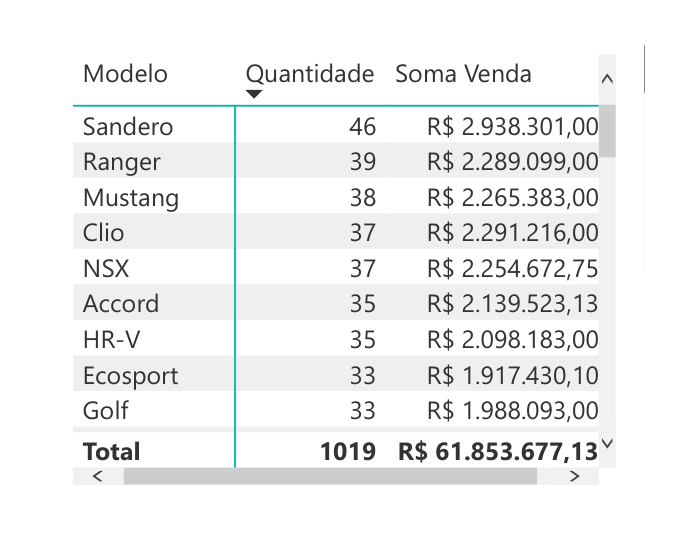

What the dashboard file says about the page in this screenshot:
{"tool":"powerbi","page":{"name":"Lista de Modelos","canvas":[320,240],"ordinal":1},"visuals":[{"type":"pivotTable","fields":{"Rows":["base_vendas.MODELO"],"Values":["CountNonNull(base_vendas.ID)","base_vendas.Soma Venda"]},"box":[10,0,300,240],"z":0}]}

Visuals, with their boxes on the page's 320x240 design canvas (x1, y1, x2, y2). These are canvas units, not pixel positions in the 690x540 screenshot, which may show the page scaled, cropped or inside an application window:
pivotTable - base_vendas.MODELO x CountNonNull(base_vendas.ID): {"x1": 10, "y1": 0, "x2": 310, "y2": 240}
